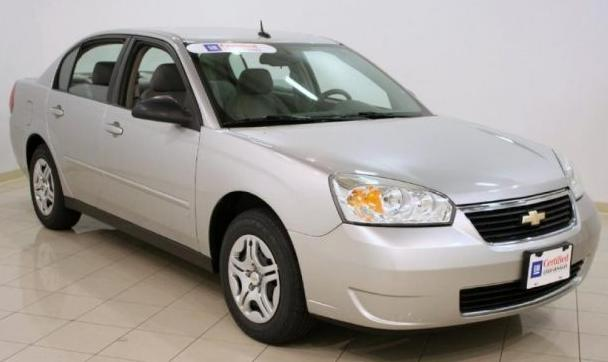front_view: (302, 151, 597, 320)
headlight: (326, 165, 455, 233)
side_glass: (60, 43, 211, 126)
